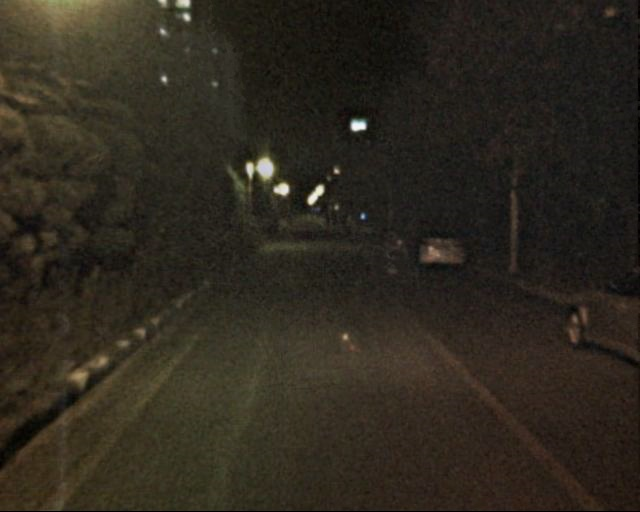person: (403, 223, 425, 276), (382, 225, 403, 276), (325, 214, 347, 237), (277, 212, 287, 237)
